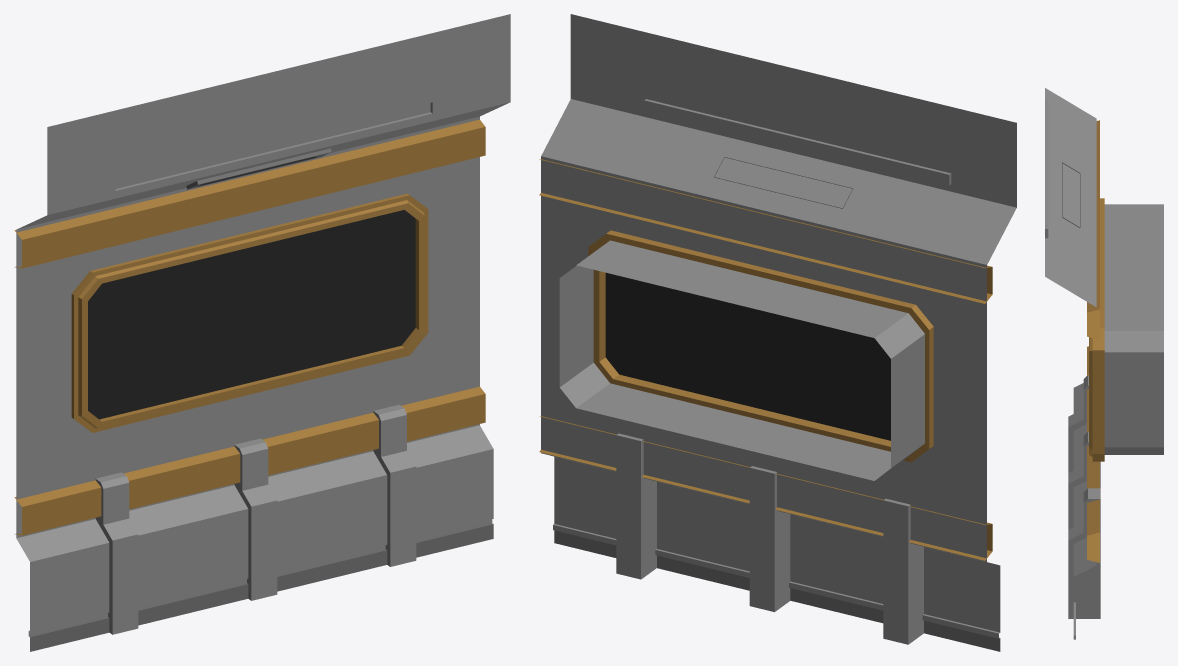
The model's file is window-wall-sidea.glb.
3 renders of one model, left to right at view 1: azimuth 30°, elevation 25°; view 2: azimuth 150°, elevation 25°; view 3: azimuth 270°, elevation 25°, orthographic. The views are drawn at different scales.
Visible parts, largest first — view 1: Window_Wall_SideA; view 2: Window_Wall_SideA; view 3: Window_Wall_SideA.
Boxes of the visible parts, bbox=[...] form: Window_Wall_SideA: bbox=[14, 14, 510, 651]; Window_Wall_SideA: bbox=[539, 14, 1016, 651]; Window_Wall_SideA: bbox=[1045, 88, 1163, 639].
Size of the model in its own units: 4 by 4.43 by 1.06.
